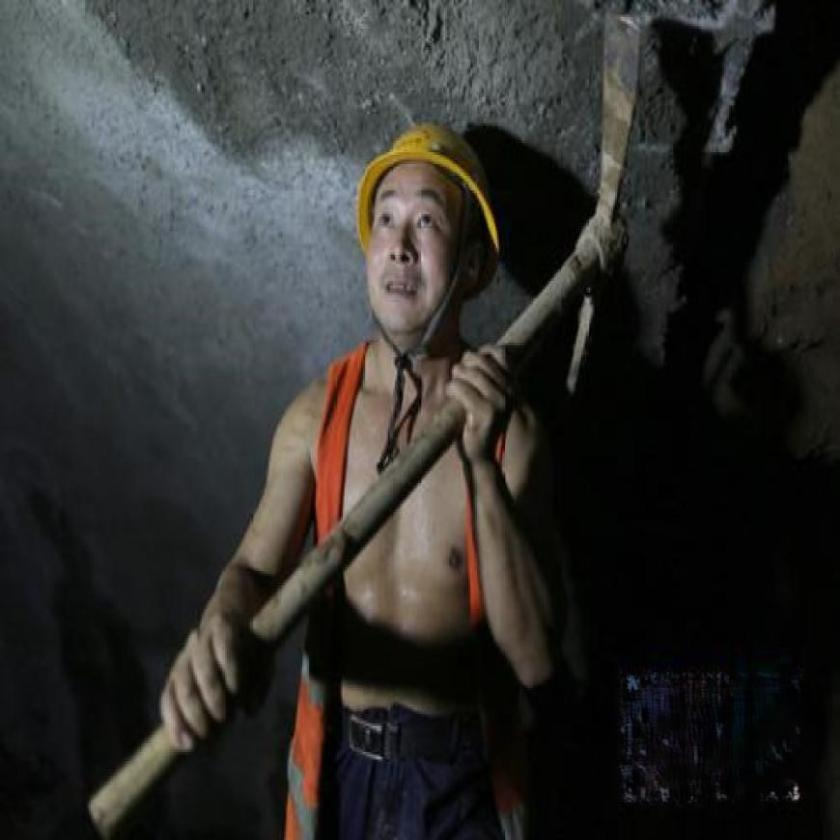Con_casco: (351, 114, 505, 345)
